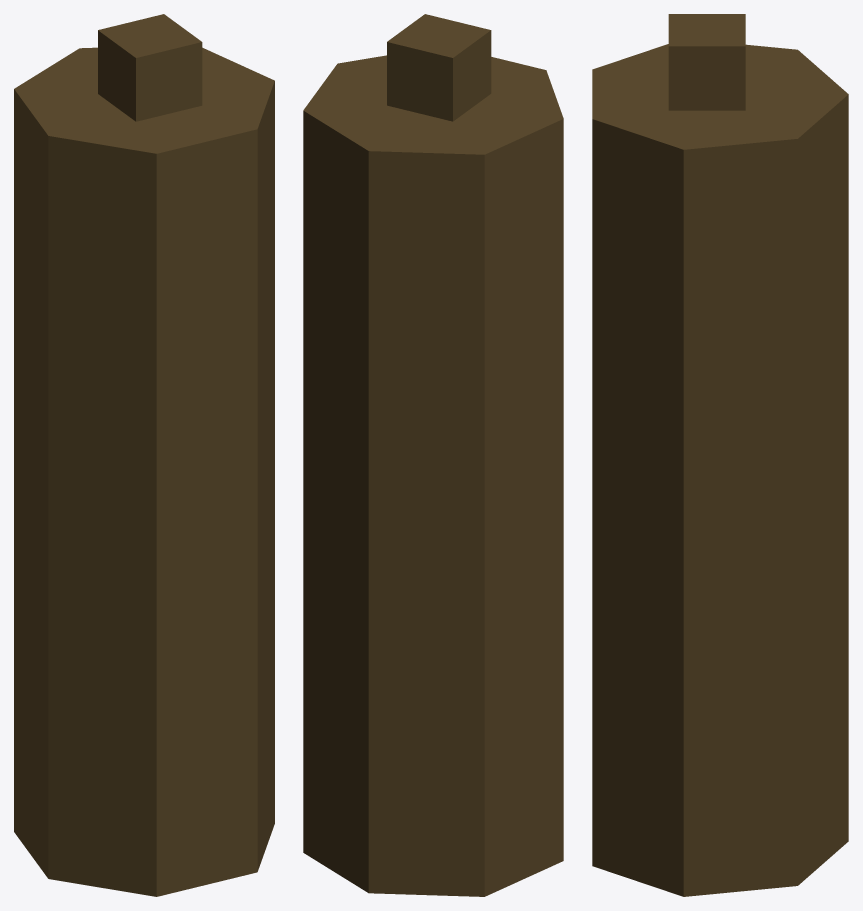
File: DarkWoodMechMediumSpinnerAxle1.fbx
3 views of the same model, side by side, from view 1: azimuth 30°, elevation 25°; view 2: azimuth 150°, elevation 25°; view 3: azimuth 270°, elevation 25° (orthographic).
Visible parts, largest first — view 1: DarkWoodMechMediumSpinnerAxle1; view 2: DarkWoodMechMediumSpinnerAxle1; view 3: DarkWoodMechMediumSpinnerAxle1.
Boxes of the visible parts, x1,y1,x2,y2 form: DarkWoodMechMediumSpinnerAxle1: [14, 14, 274, 896]; DarkWoodMechMediumSpinnerAxle1: [303, 14, 563, 896]; DarkWoodMechMediumSpinnerAxle1: [592, 14, 848, 896].
Bounding box in the file's own units: 135 × 459 × 131.
Materials: 1 (1 with a texture image).
